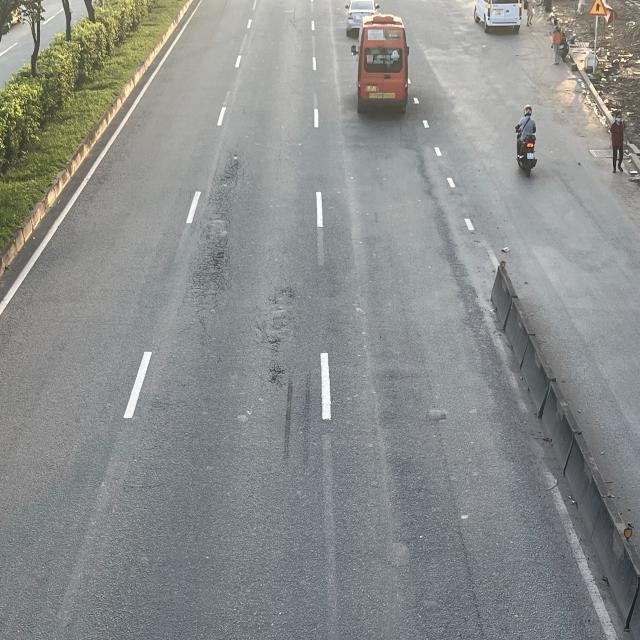van: (350, 13, 409, 112), (474, 0, 522, 33)
